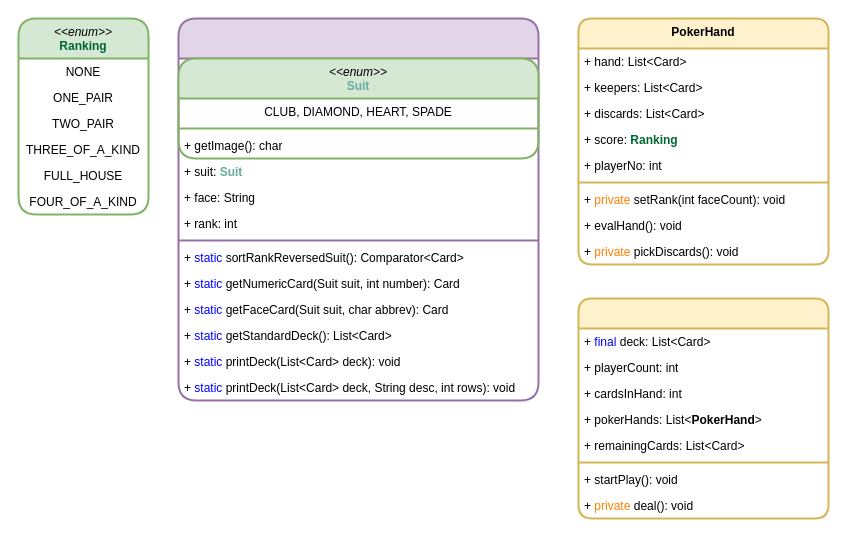
Some shapes in this 846 by 538 pixel diagram are drawn without their labels. Each missing label, with the box of its shape:
<<record>> Card: (177, 17, 539, 401)
PokerGame: (577, 297, 829, 519)
